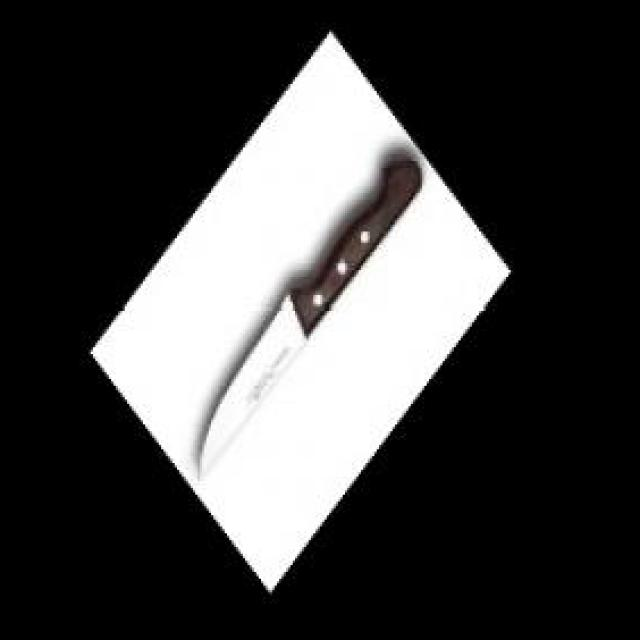knife: (198, 157, 422, 486)
